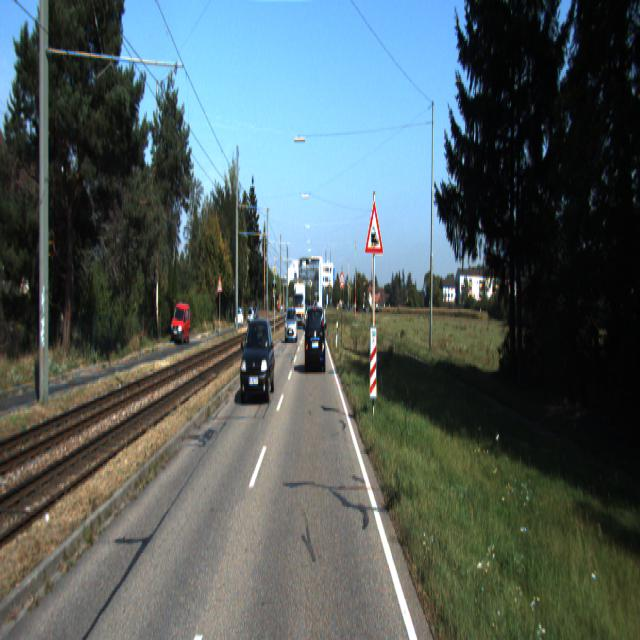Car: (240, 312, 277, 404), (306, 304, 326, 374), (170, 303, 190, 347), (285, 307, 298, 345)
